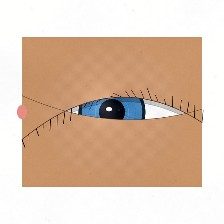hemorrhage_spot: (64, 72, 122, 119)
